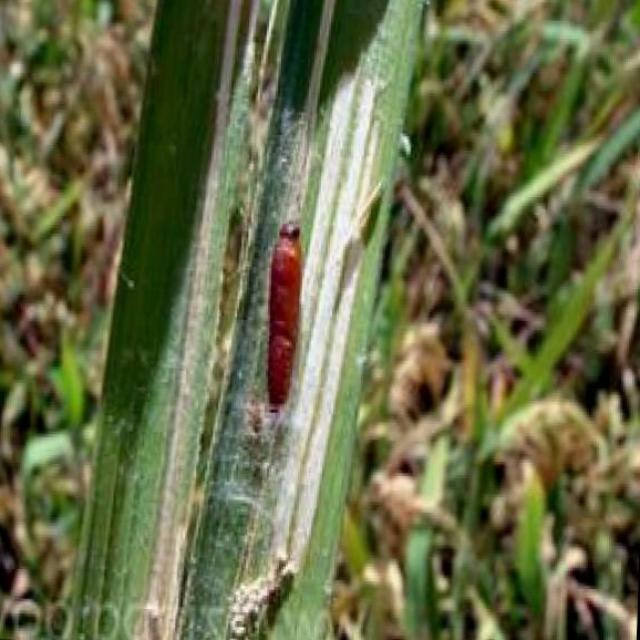leaf folder: (268, 223, 302, 412)
